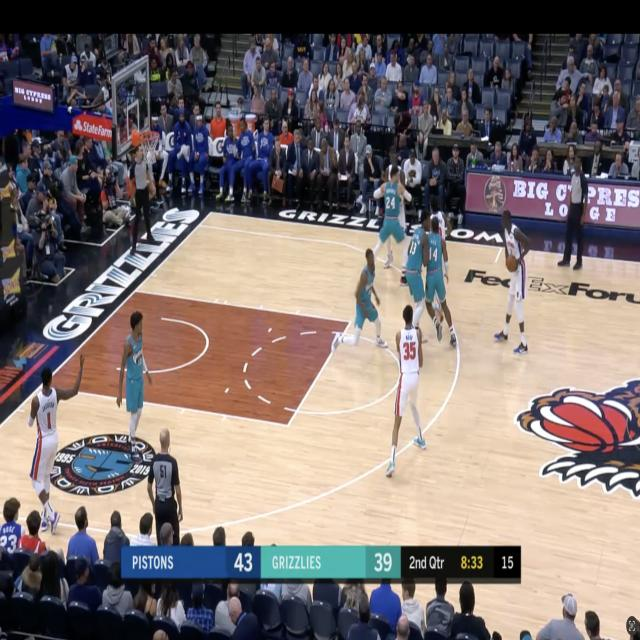no foul: (400, 192, 466, 352), (372, 160, 405, 282)
